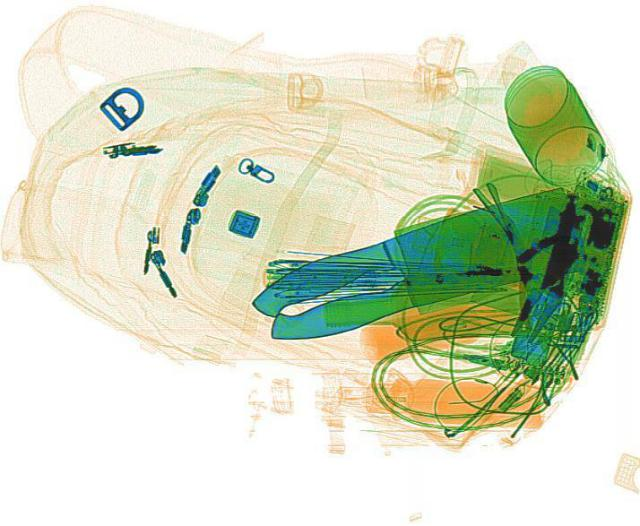Knife: (239, 185, 599, 355), (240, 183, 602, 345)
